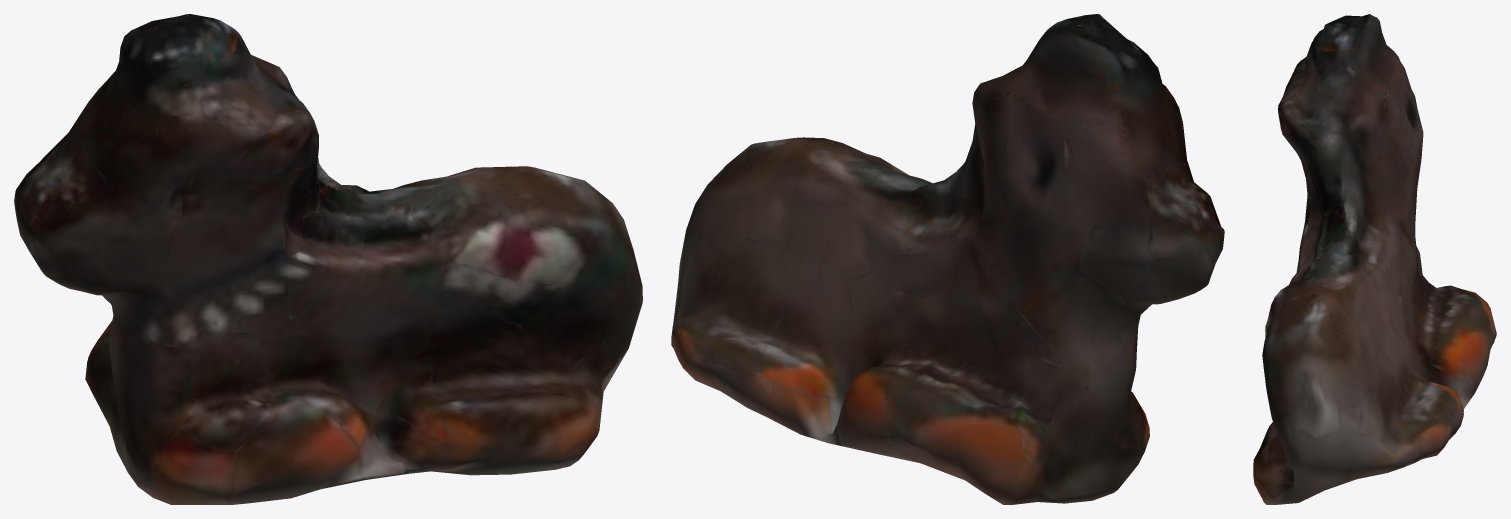
Rendered from hall.glb.
3 views of the same model, side by side, from view 1: azimuth 30°, elevation 25°; view 2: azimuth 150°, elevation 25°; view 3: azimuth 270°, elevation 25° (orthographic). The views are drawn at different scales.
Bounding box in the file's own units: 0.5721 × 0.4649 × 0.2793.
1 material, 1 textured.
